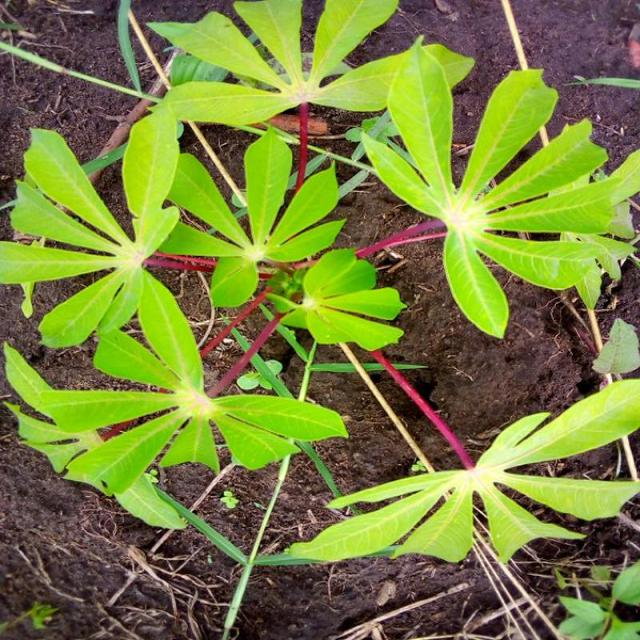cassava leaf: (0, 1, 638, 633), (357, 34, 637, 339)
